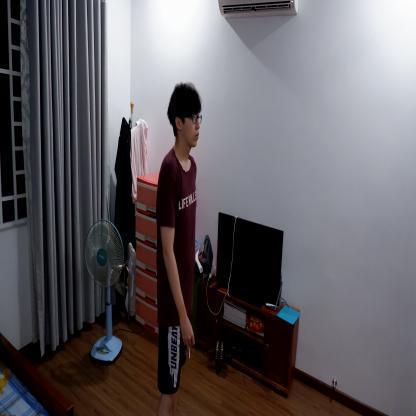cigarette: (188, 344, 191, 361)
person: (156, 80, 203, 415)
